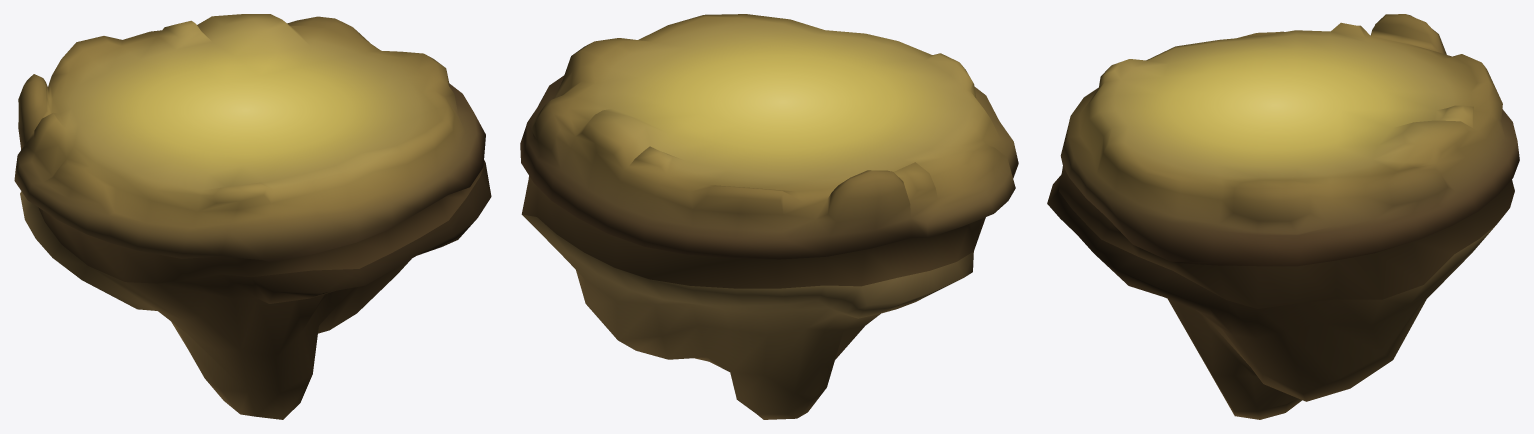
File: MS_Deaert01_Default01.fbx
3 renders of one model, left to right at view 1: azimuth 30°, elevation 25°; view 2: azimuth 150°, elevation 25°; view 3: azimuth 270°, elevation 25°, orthographic. The views are drawn at different scales.
Parts seen in each view (by area): view 1: MS_Desert01_Default01; view 2: MS_Desert01_Default01; view 3: MS_Desert01_Default01.
Boxes of the visible parts, box(x1,y1,x2,y2) form: MS_Desert01_Default01: box(14, 14, 491, 419); MS_Desert01_Default01: box(520, 14, 1018, 419); MS_Desert01_Default01: box(1047, 14, 1519, 419).
Size of the model in its own units: 3300 by 2365 by 3114.
